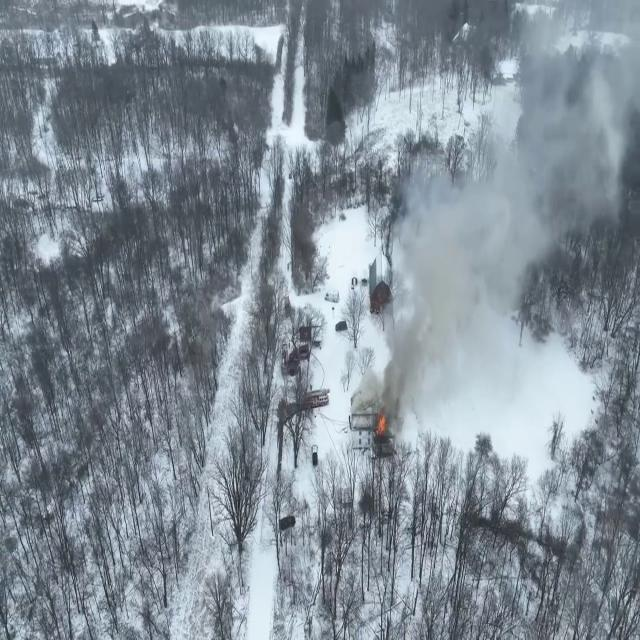Smoke: (392, 6, 640, 434)
